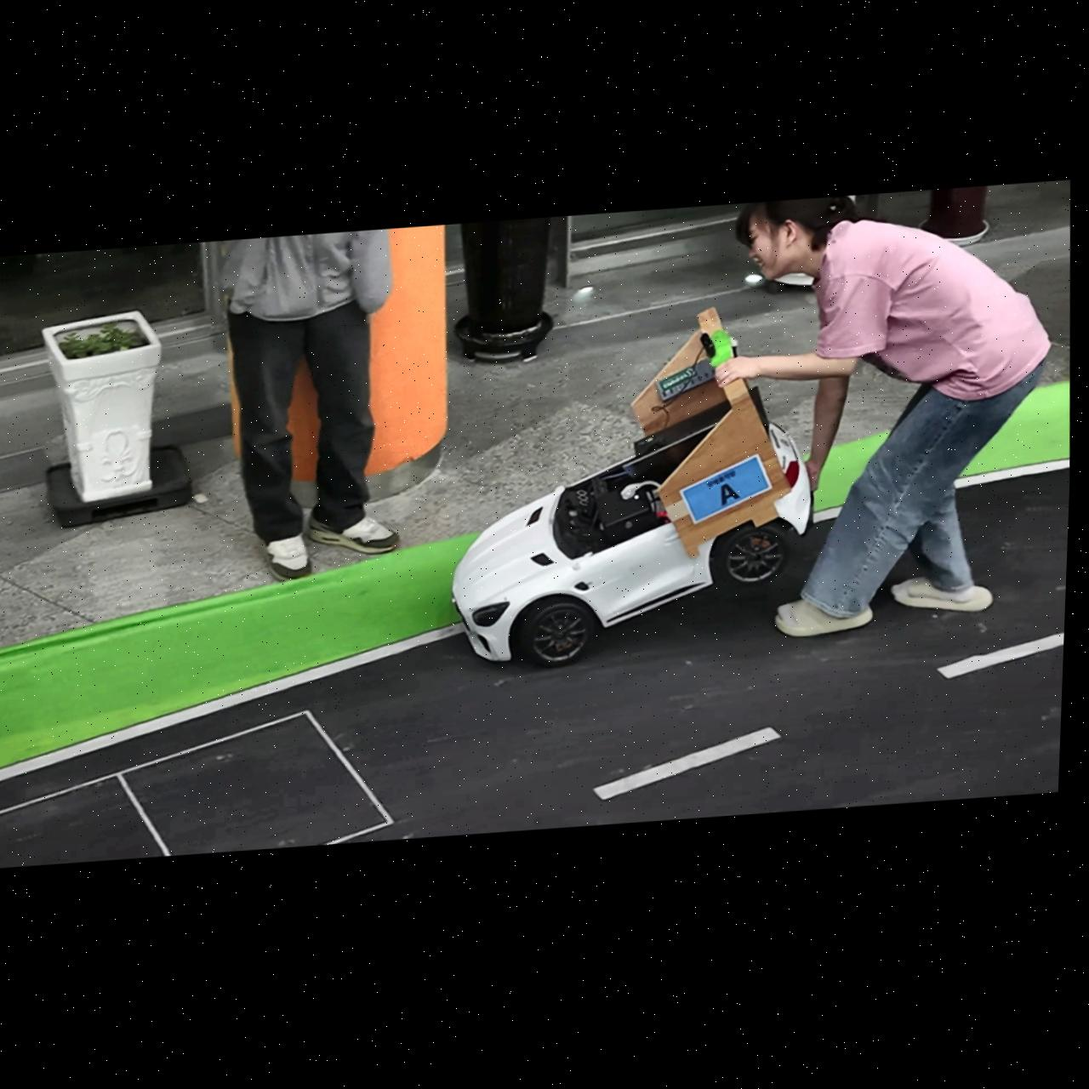broken_line: (592, 726, 781, 800), (936, 631, 1064, 678)
